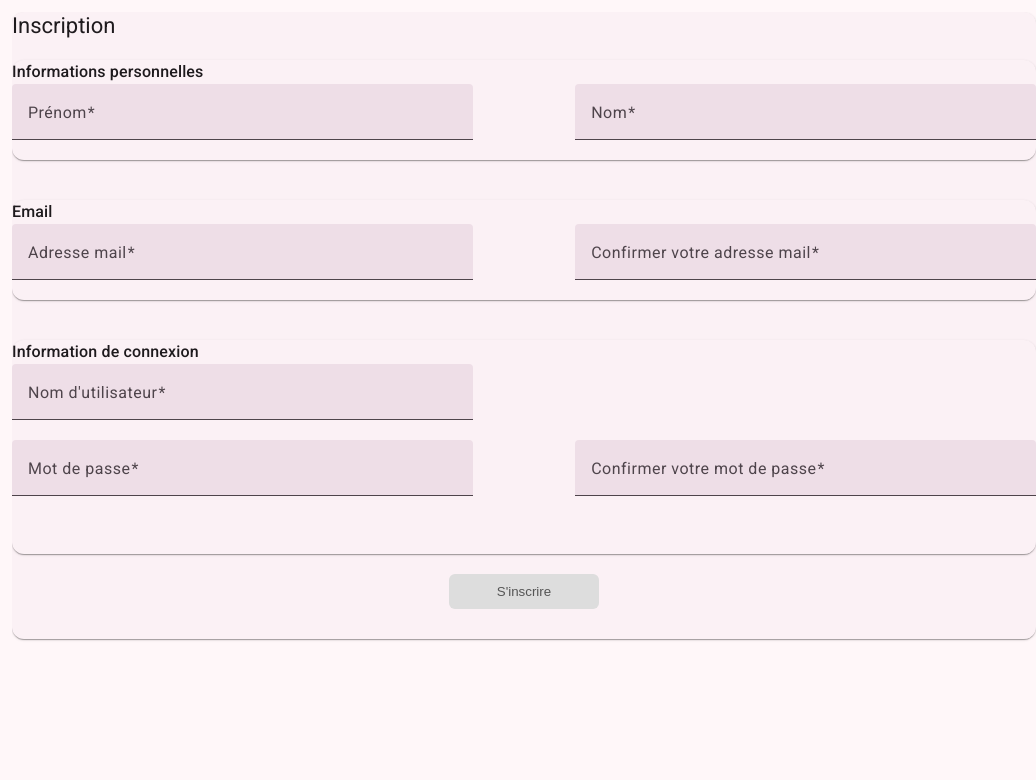
Test case: Sign-InComponent › Formulaire d'inscription › l'adresse email doit être valide
The image size is (1036, 780).
Type "invalid-email" into the field labelled "Adresse mail" at (242, 260), box [28,248,457,272]
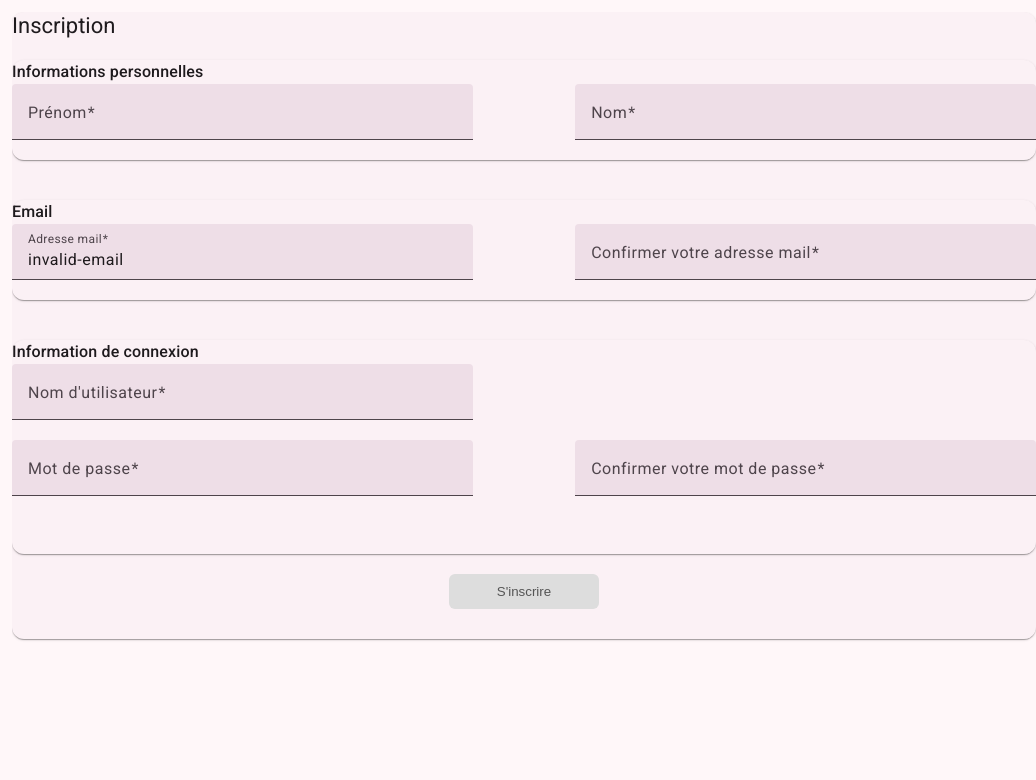
Leave the field labelled "Adresse mail", box [28,248,457,272]
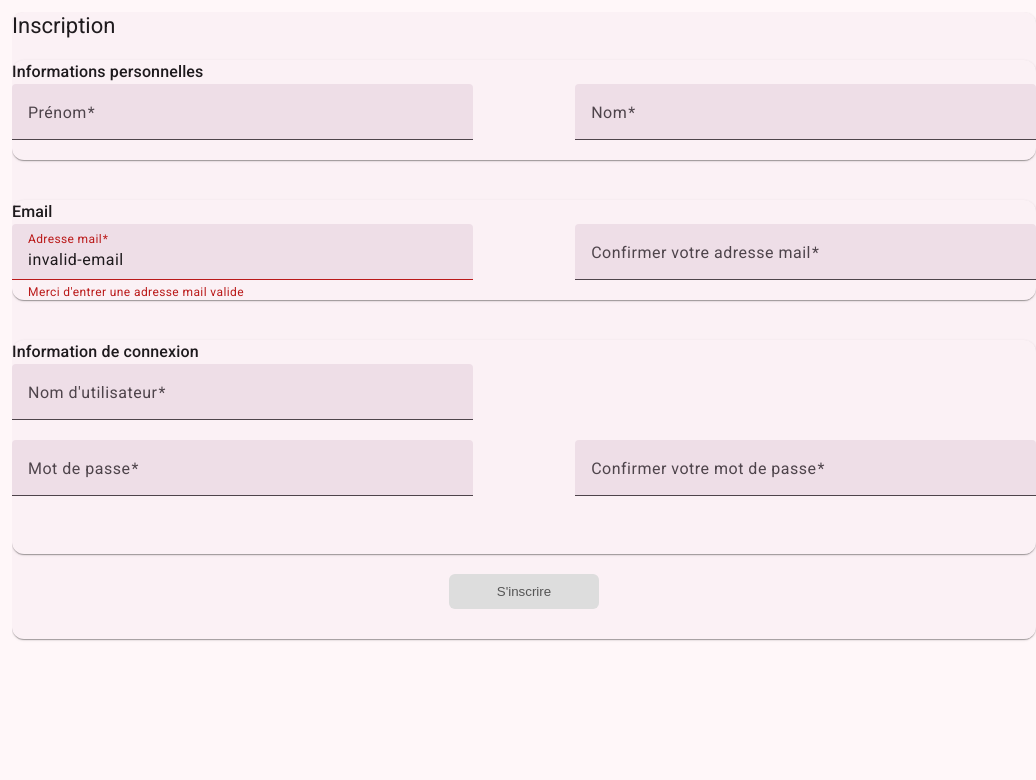
expect the text "Merci d'entrer une adresse mail valide" is shown: met, box [28,285,244,299]
